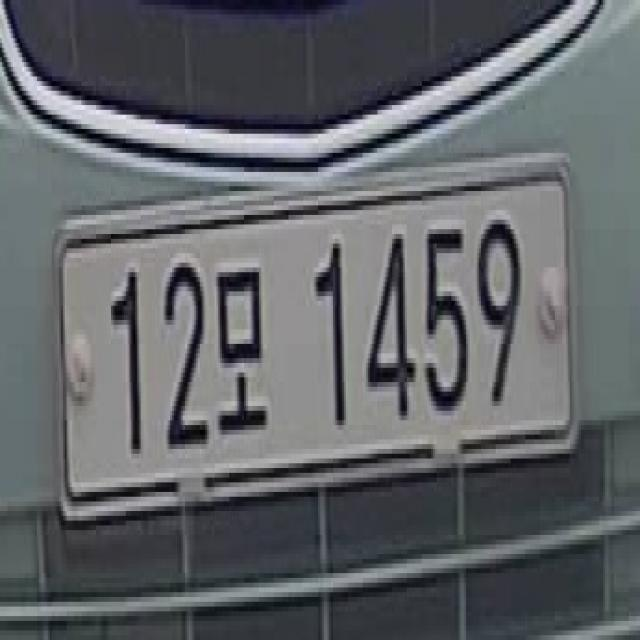1: (312, 228, 350, 444), (110, 260, 141, 468)
2: (158, 251, 212, 468)
4: (366, 219, 418, 432)
5: (422, 214, 472, 422)
9: (474, 198, 530, 426)
license_plate: (47, 138, 592, 533)
mo: (214, 247, 276, 457)
